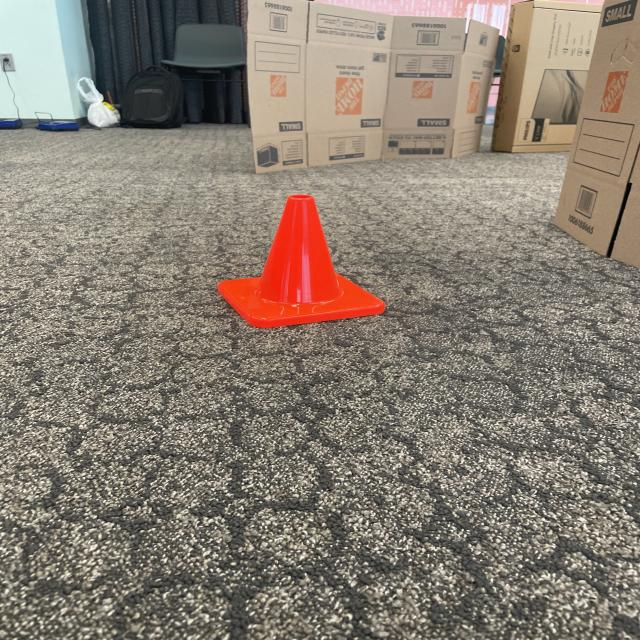Traffic Cone: (214, 195, 384, 327)
